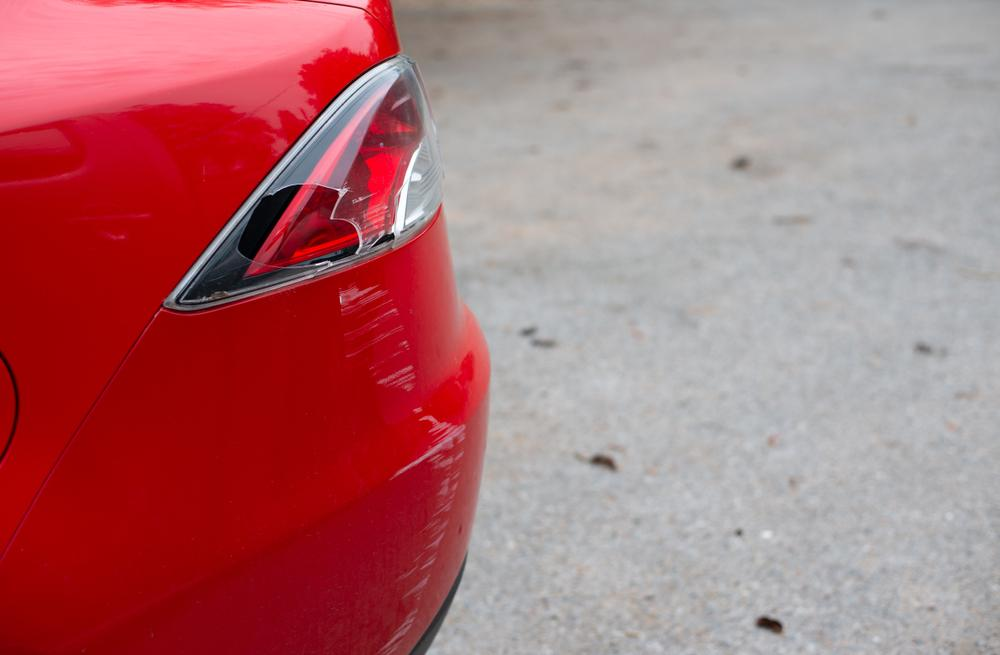lamp broken: (165, 54, 446, 310)
scratch: (330, 283, 468, 655)
